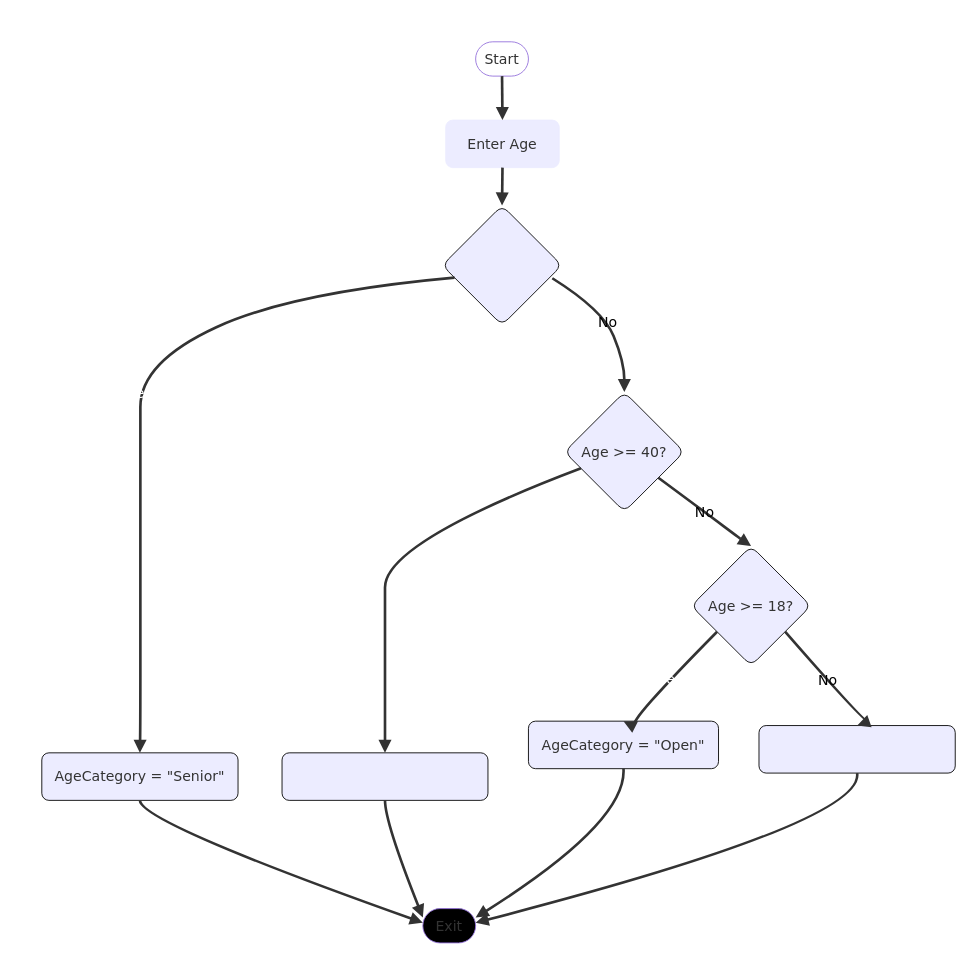
This 971x958 diagram has some shape labels left out. Each missing label, with the centre of its shape:
Age >= 60?: [501,265]
AgeCategory = "Junior": [856,749]
AgeCategory = "Veteran": [384,776]
